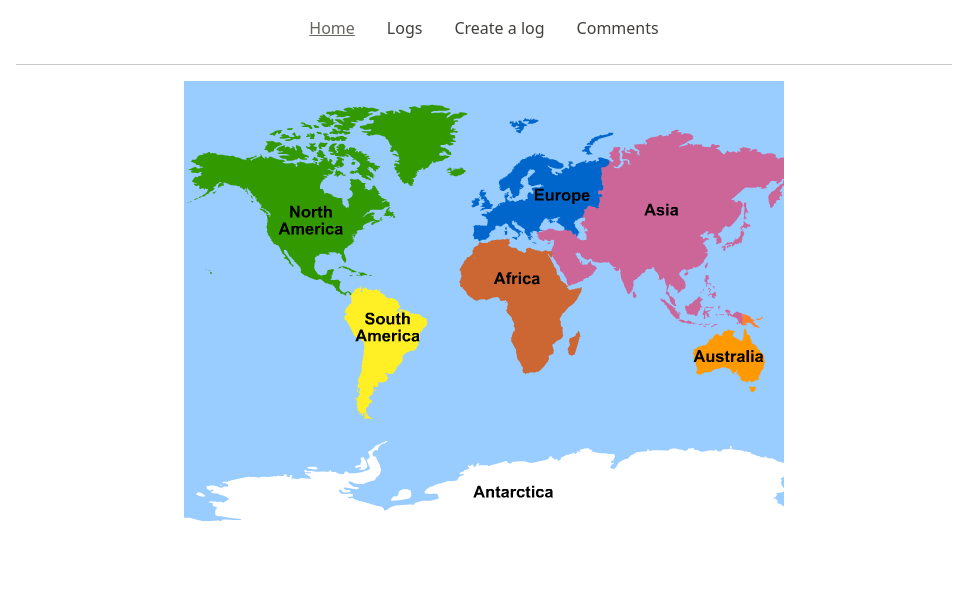
Test: test 2: navbars direct users to the correct pages
This screenshot has width=969, height=590.
Click the link "Comments": (618, 28) [577,17,659,39]
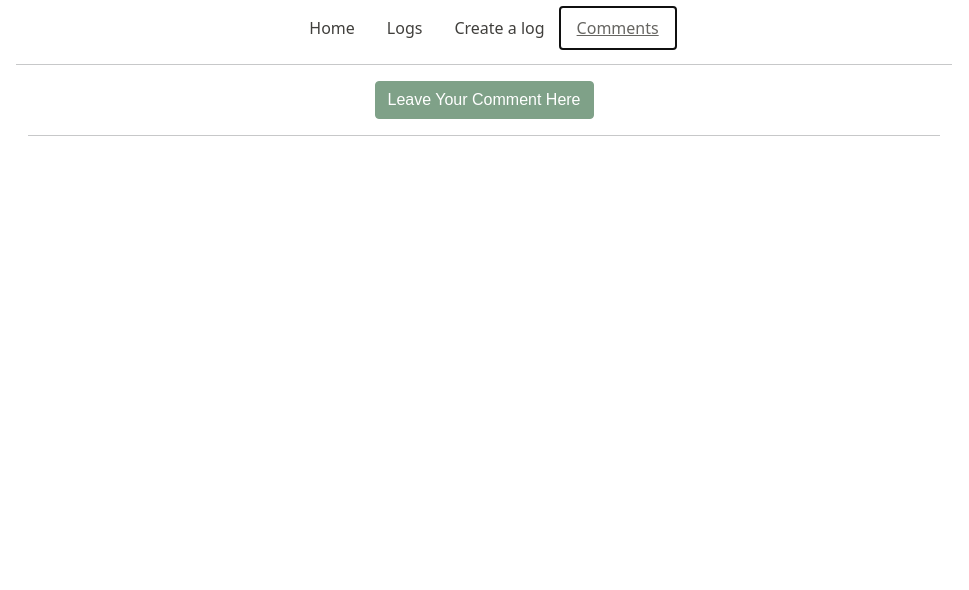
Expected: the button "Leave Your Comment Here" is shown, [374,81,594,119]
Click the link "Create a log": (500, 28) [454,17,545,39]
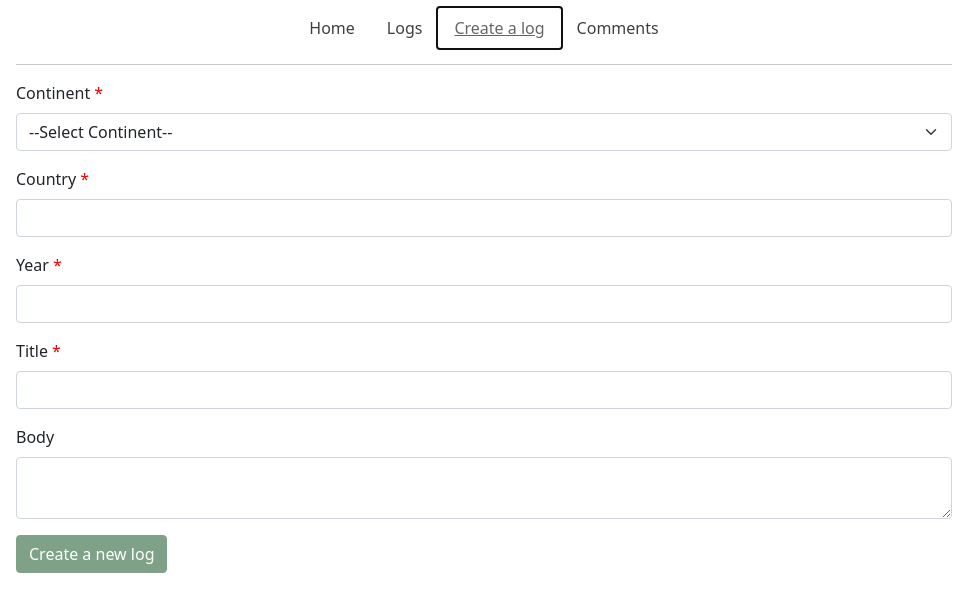
Expected: the button "Create a new log" is shown, [16,535,168,573]
Click the link "Home": (332, 28) [309,17,355,39]
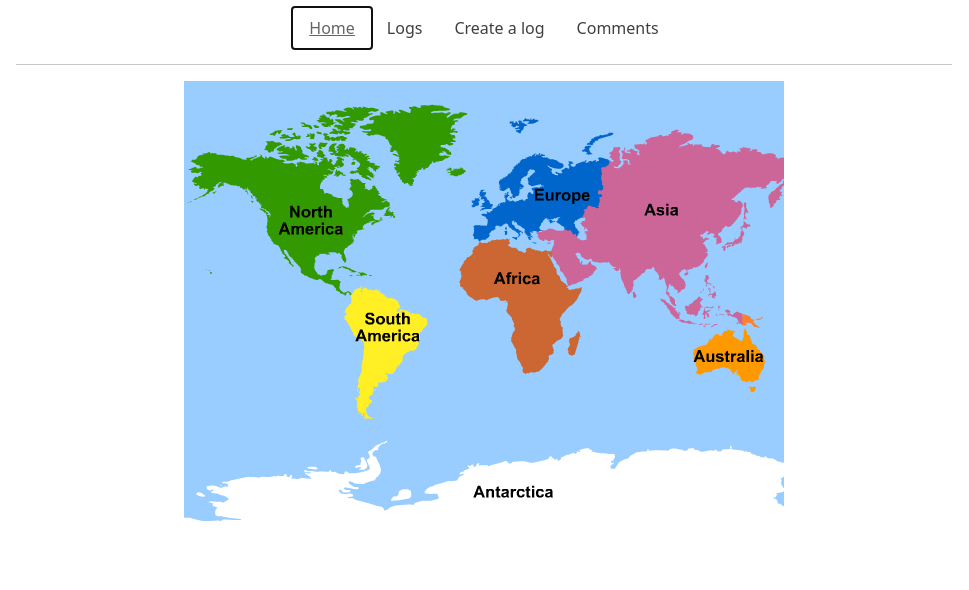
Expected: the picture with alt text "all" is shown, [184,81,784,541]
